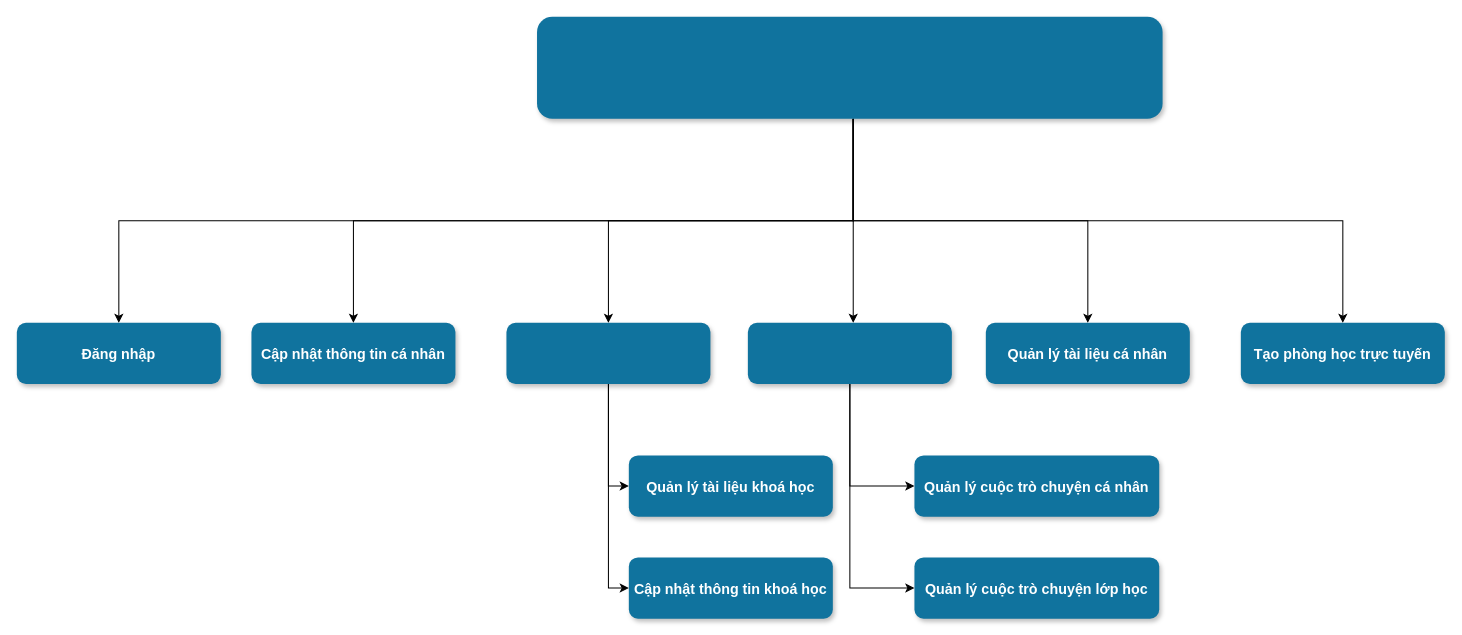
Image size: 1462x635. Some labels were removed from this diagram. The centre of each missing label's shape, as x and y in pixels:
"HỆ THỐNG CỘNG ĐỒNG GIA SƯ" goes at point 850,68.
"Quản lý cuộc trò chuyện" goes at point 850,354.
"Quản lý khoá học" goes at point 609,354.
